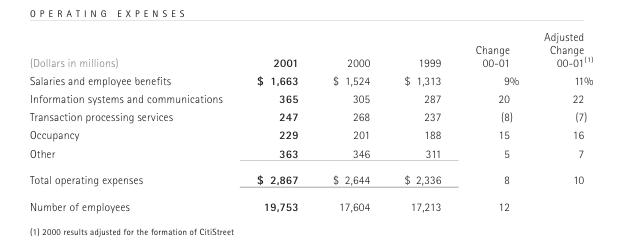table: (28, 29, 592, 213)
table column: (28, 29, 238, 213), (238, 29, 314, 213), (457, 29, 530, 213), (314, 29, 386, 213), (386, 29, 457, 213), (530, 29, 592, 213)
table column header: (28, 29, 592, 70)
table row: (28, 29, 592, 70), (28, 165, 592, 192), (28, 143, 592, 165), (28, 192, 592, 213), (28, 88, 592, 107), (28, 70, 592, 88), (28, 107, 592, 125), (28, 125, 592, 143)
